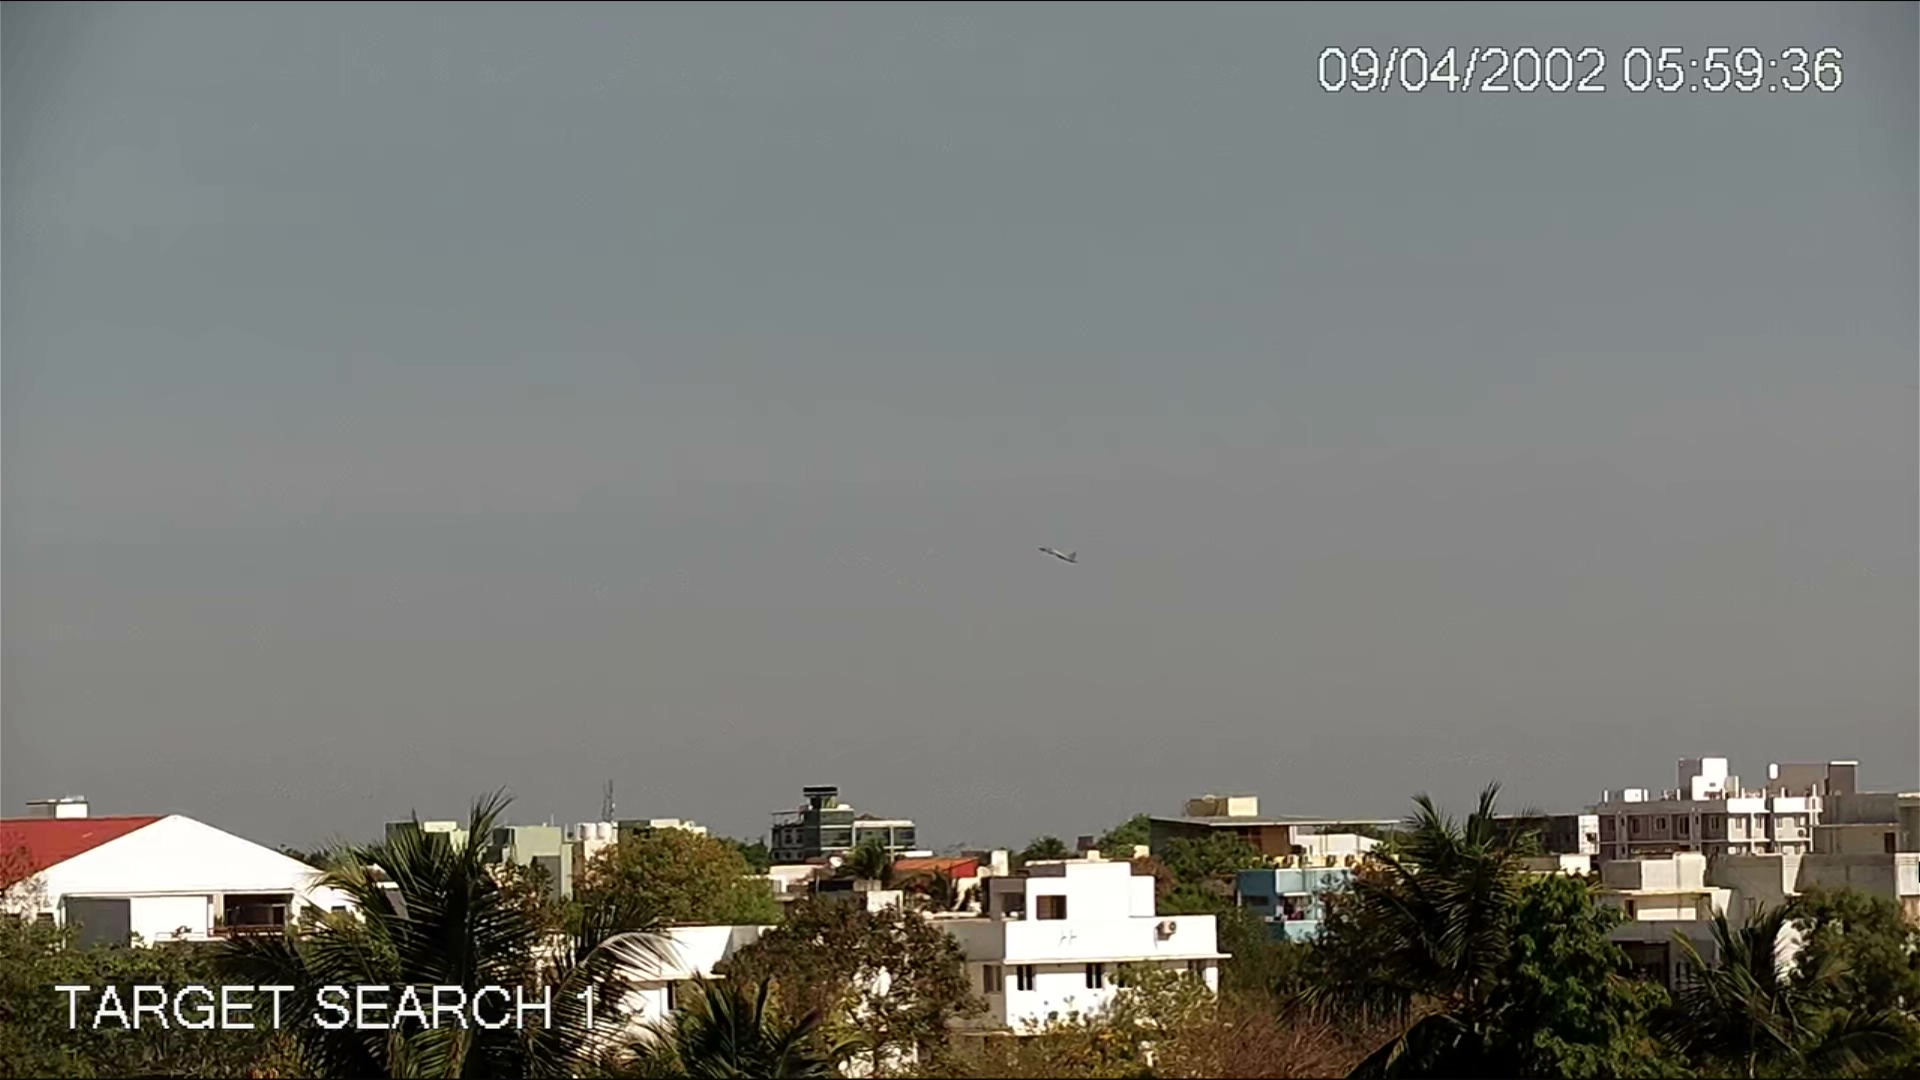SU_30: (1035, 545, 1080, 564)
